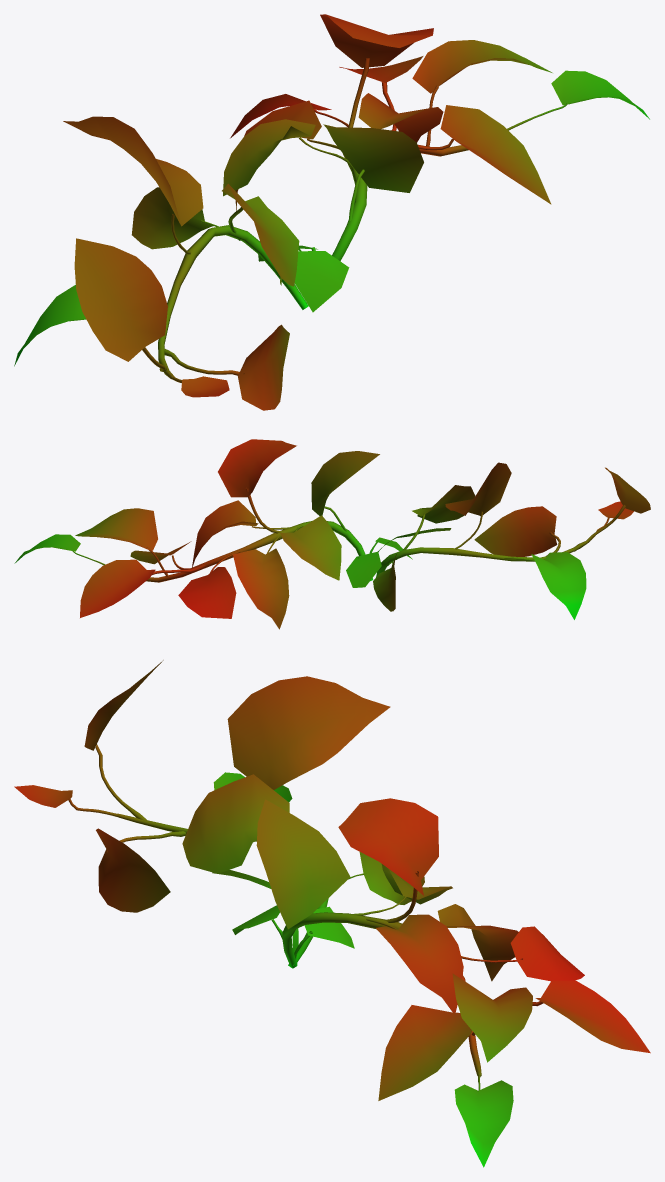
File: Money Plant_LOD0_Var4_uchmfdyia.fbx
The picture shows the model from 3 angles, top to bottom: view 1: azimuth 30°, elevation 25°; view 2: azimuth 150°, elevation 25°; view 3: azimuth 270°, elevation 25°; orthographic projection. The views are drawn at different scales.
Visible parts, largest first — view 1: _e9f7_Var4_LOD0; view 2: _e9f7_Var4_LOD0; view 3: _e9f7_Var4_LOD0.
Boxes of the visible parts, x1=… form: _e9f7_Var4_LOD0: x1=14, y1=14, x2=649, y2=410; _e9f7_Var4_LOD0: x1=14, y1=439, x2=650, y2=629; _e9f7_Var4_LOD0: x1=14, y1=660, x2=650, y2=1167.
Bounding box in the file's own units: 38.06 × 11.02 × 29.95.
